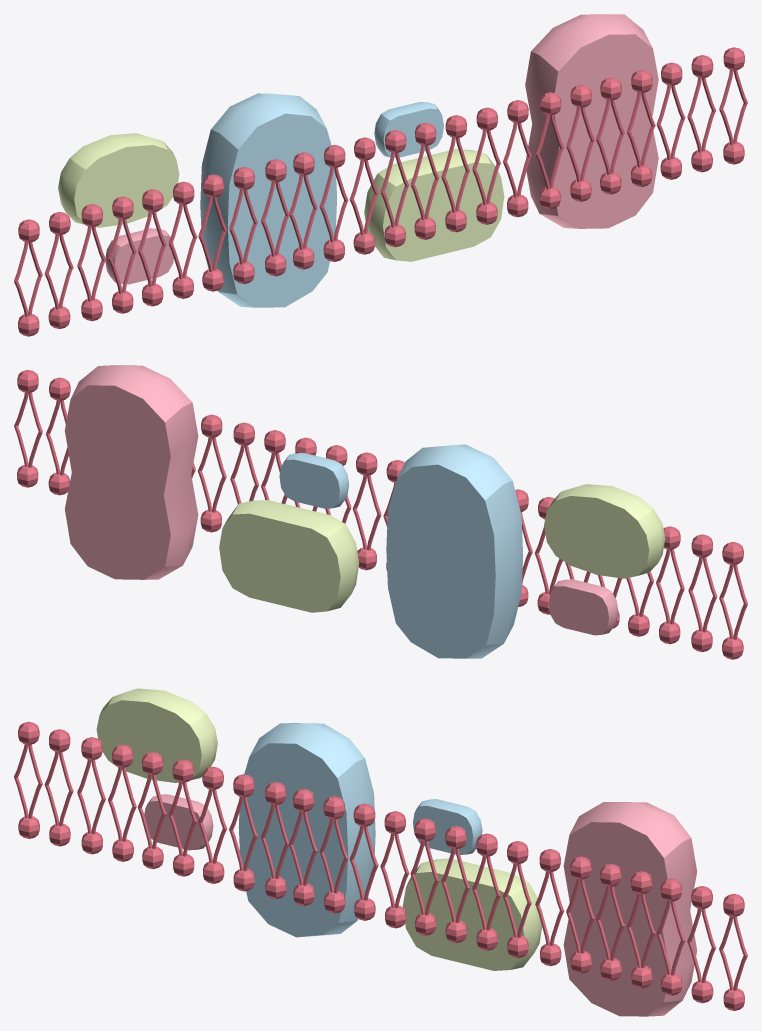
Rendered from Electron transport chain combine no text.fbx.
The picture shows the model from 3 angles, top to bottom: view 1: azimuth 30°, elevation 25°; view 2: azimuth 150°, elevation 25°; view 3: azimuth 330°, elevation 25°; orthographic projection.
Parts seen in each view (by area): view 1: pCylinder46; view 2: pCylinder46; view 3: pCylinder46.
Boxes of the visible parts, <box> form: pCylinder46: <box>14,14,747,336</box>; pCylinder46: <box>14,365,747,659</box>; pCylinder46: <box>14,688,747,1016</box>.
Size of the model in its own units: 6.09 by 1.69 by 0.5538.
